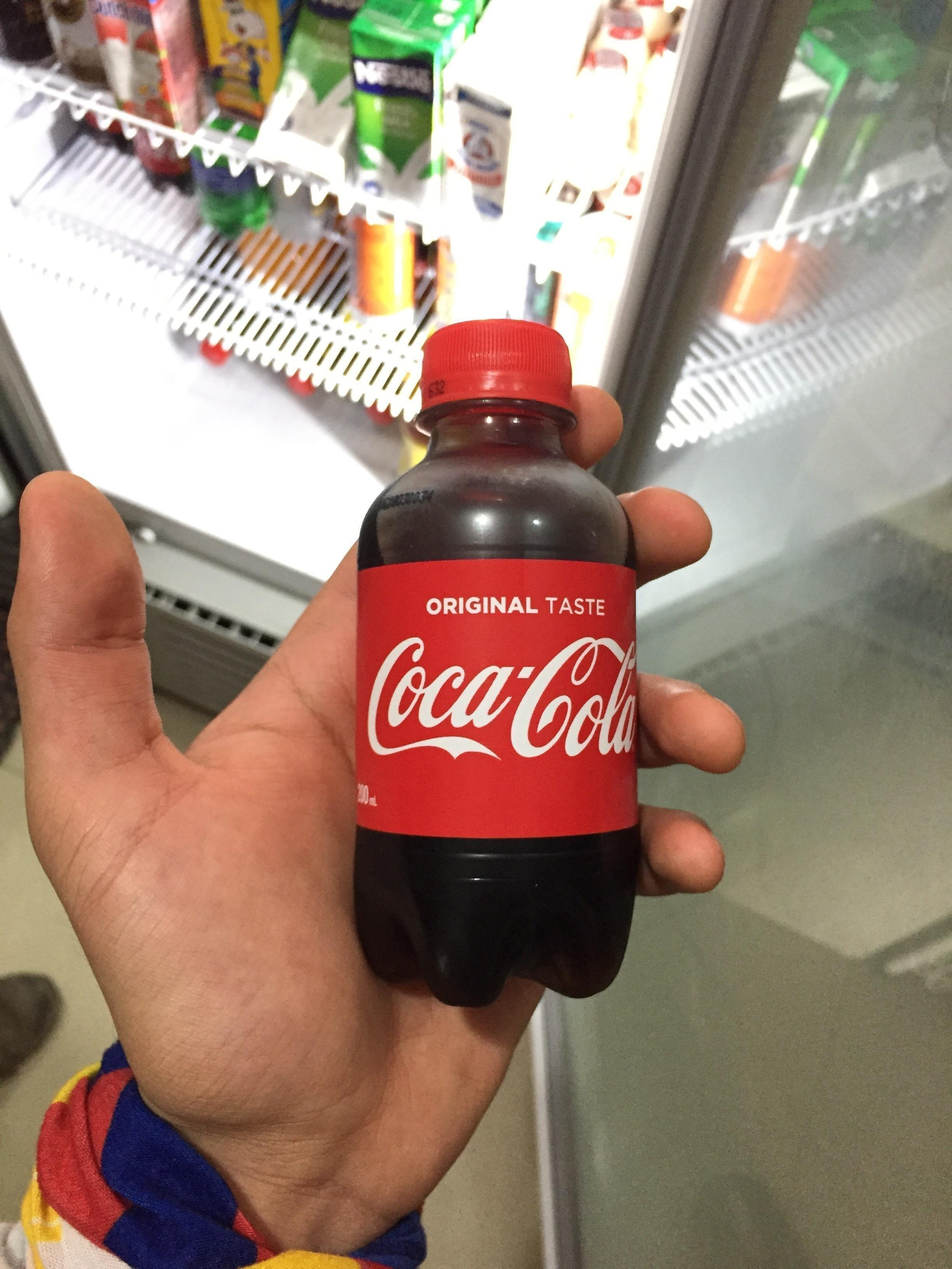bottle-plastic: (343, 310, 649, 1011)
